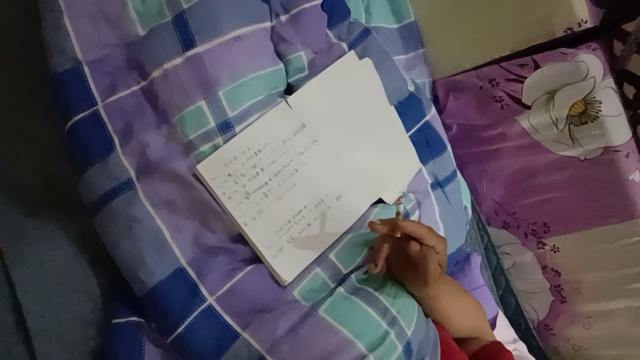Cigarette: (394, 196, 404, 238)
